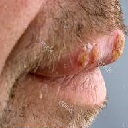Cold Sore: (77, 42, 100, 66), (113, 33, 124, 62)
